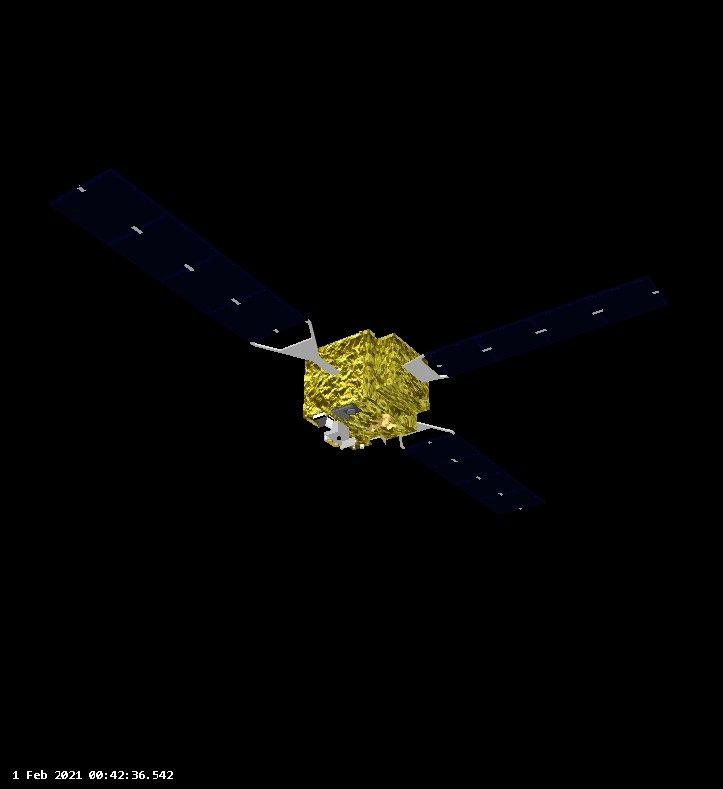body: (300, 326, 434, 453)
solar: (43, 162, 311, 348), (423, 271, 671, 382), (400, 429, 545, 518)
